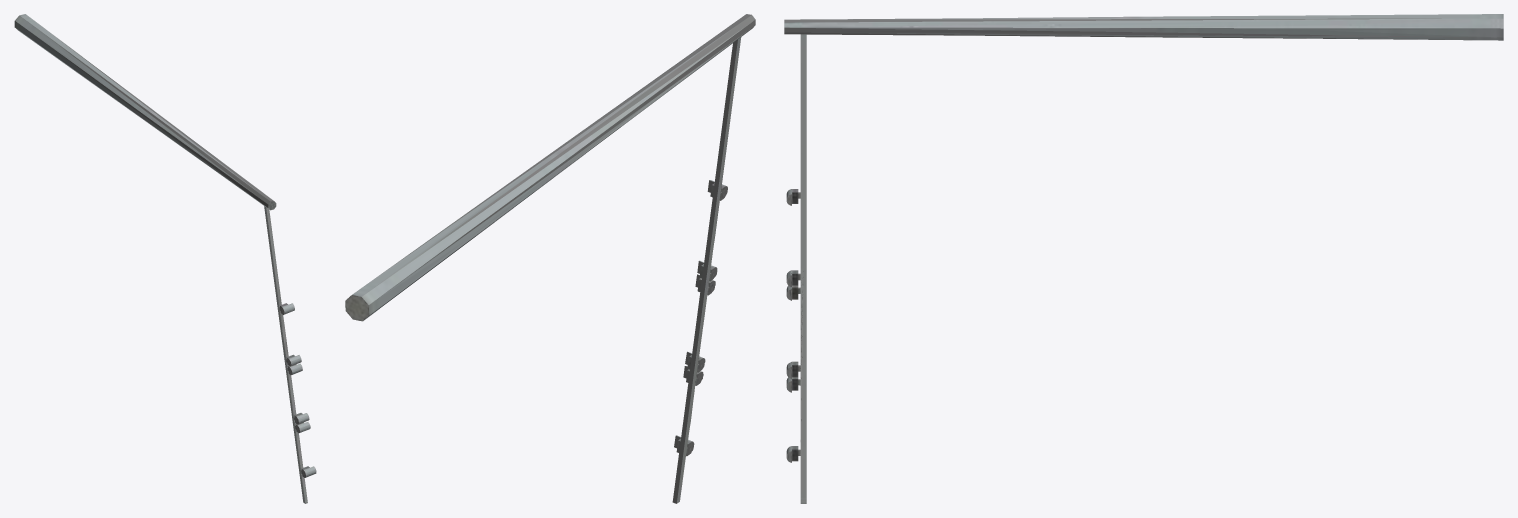
Rendered from jkg.glb.
3 views of the same model, side by side, from view 1: azimuth 30°, elevation 25°; view 2: azimuth 150°, elevation 25°; view 3: azimuth 270°, elevation 25° (orthographic). The views are drawn at different scales.
Bounding box in the file's own units: 0.829 × 4.77 × 6.77.
1 material, 1 textured.
